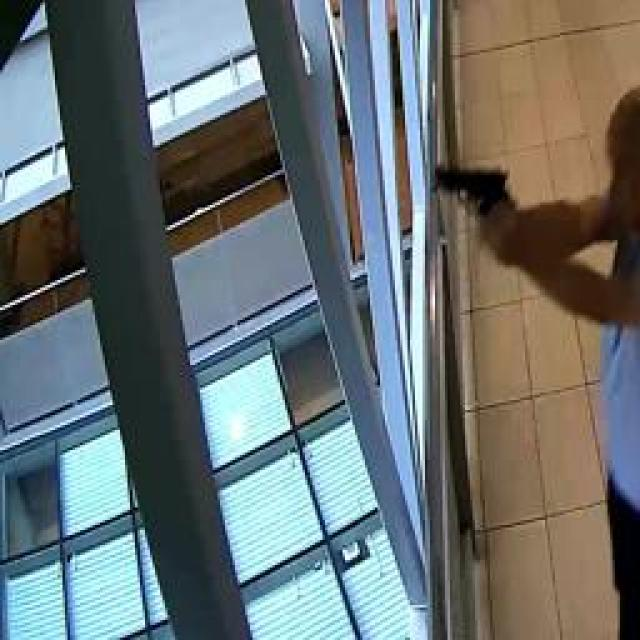Guns: (423, 144, 532, 262)
